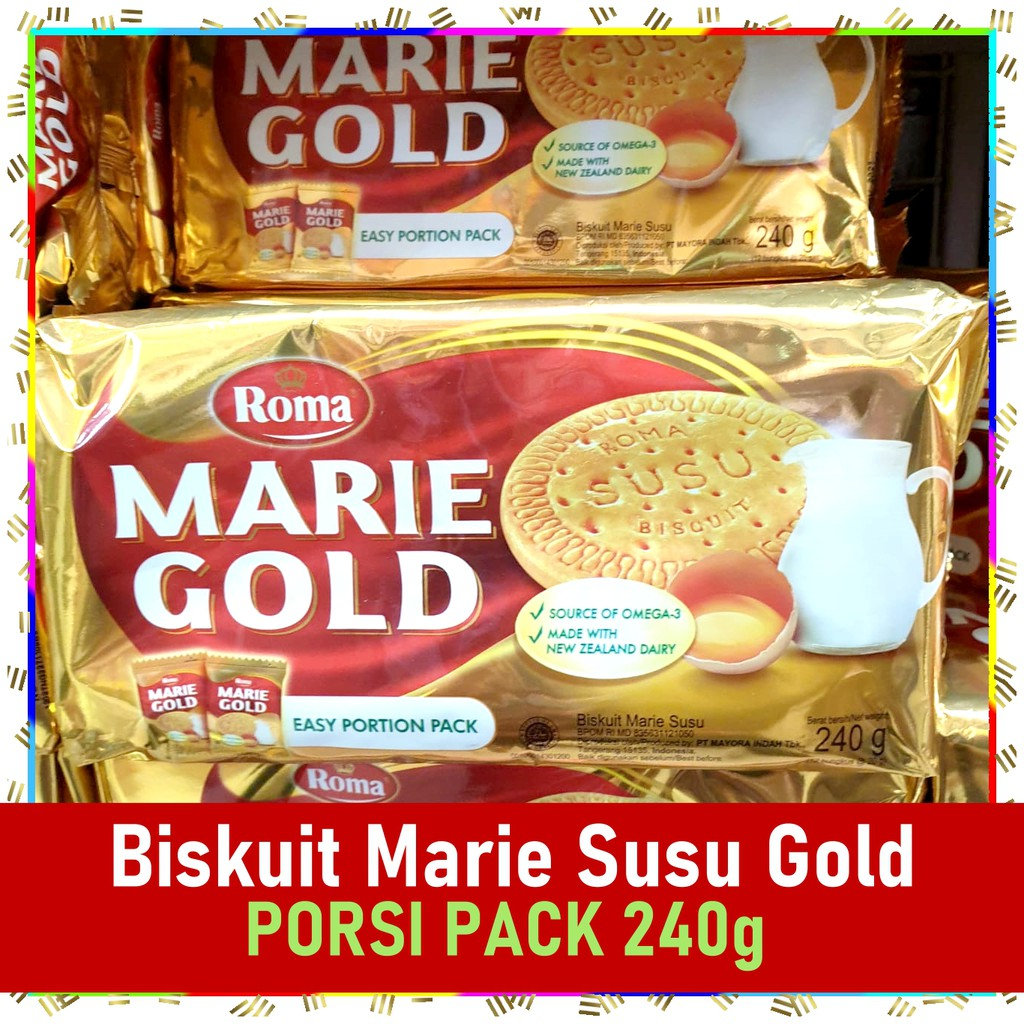Roma Marie Gold (240g): (22, 297, 979, 770), (133, 42, 938, 294)
